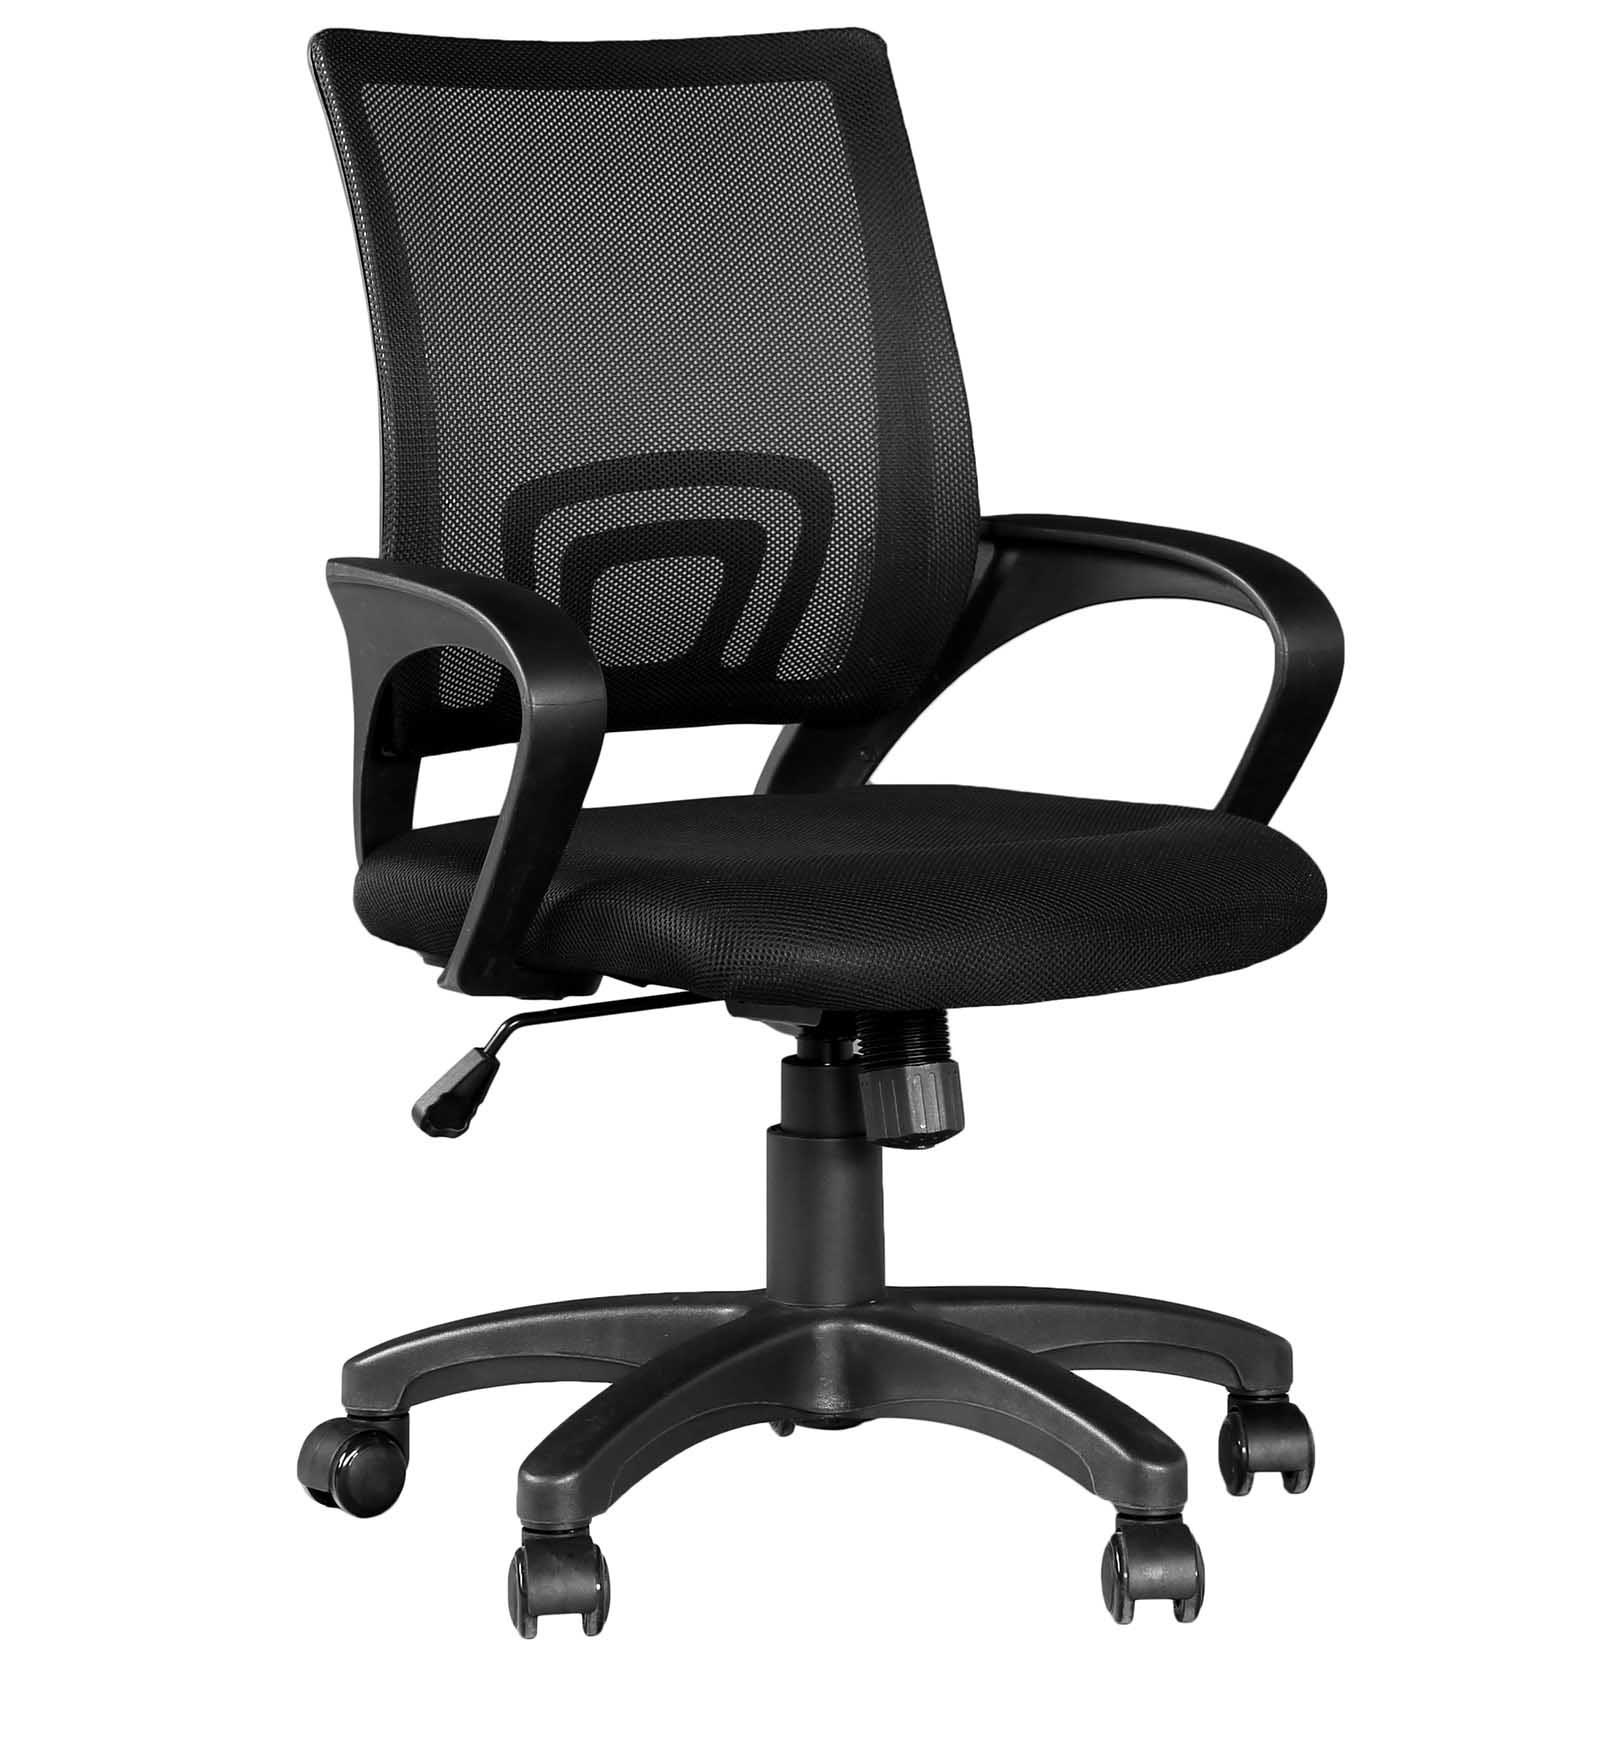Regus Low Back Mesh Chair in Green Colour by Hometown: (195, 11, 1401, 1657)
